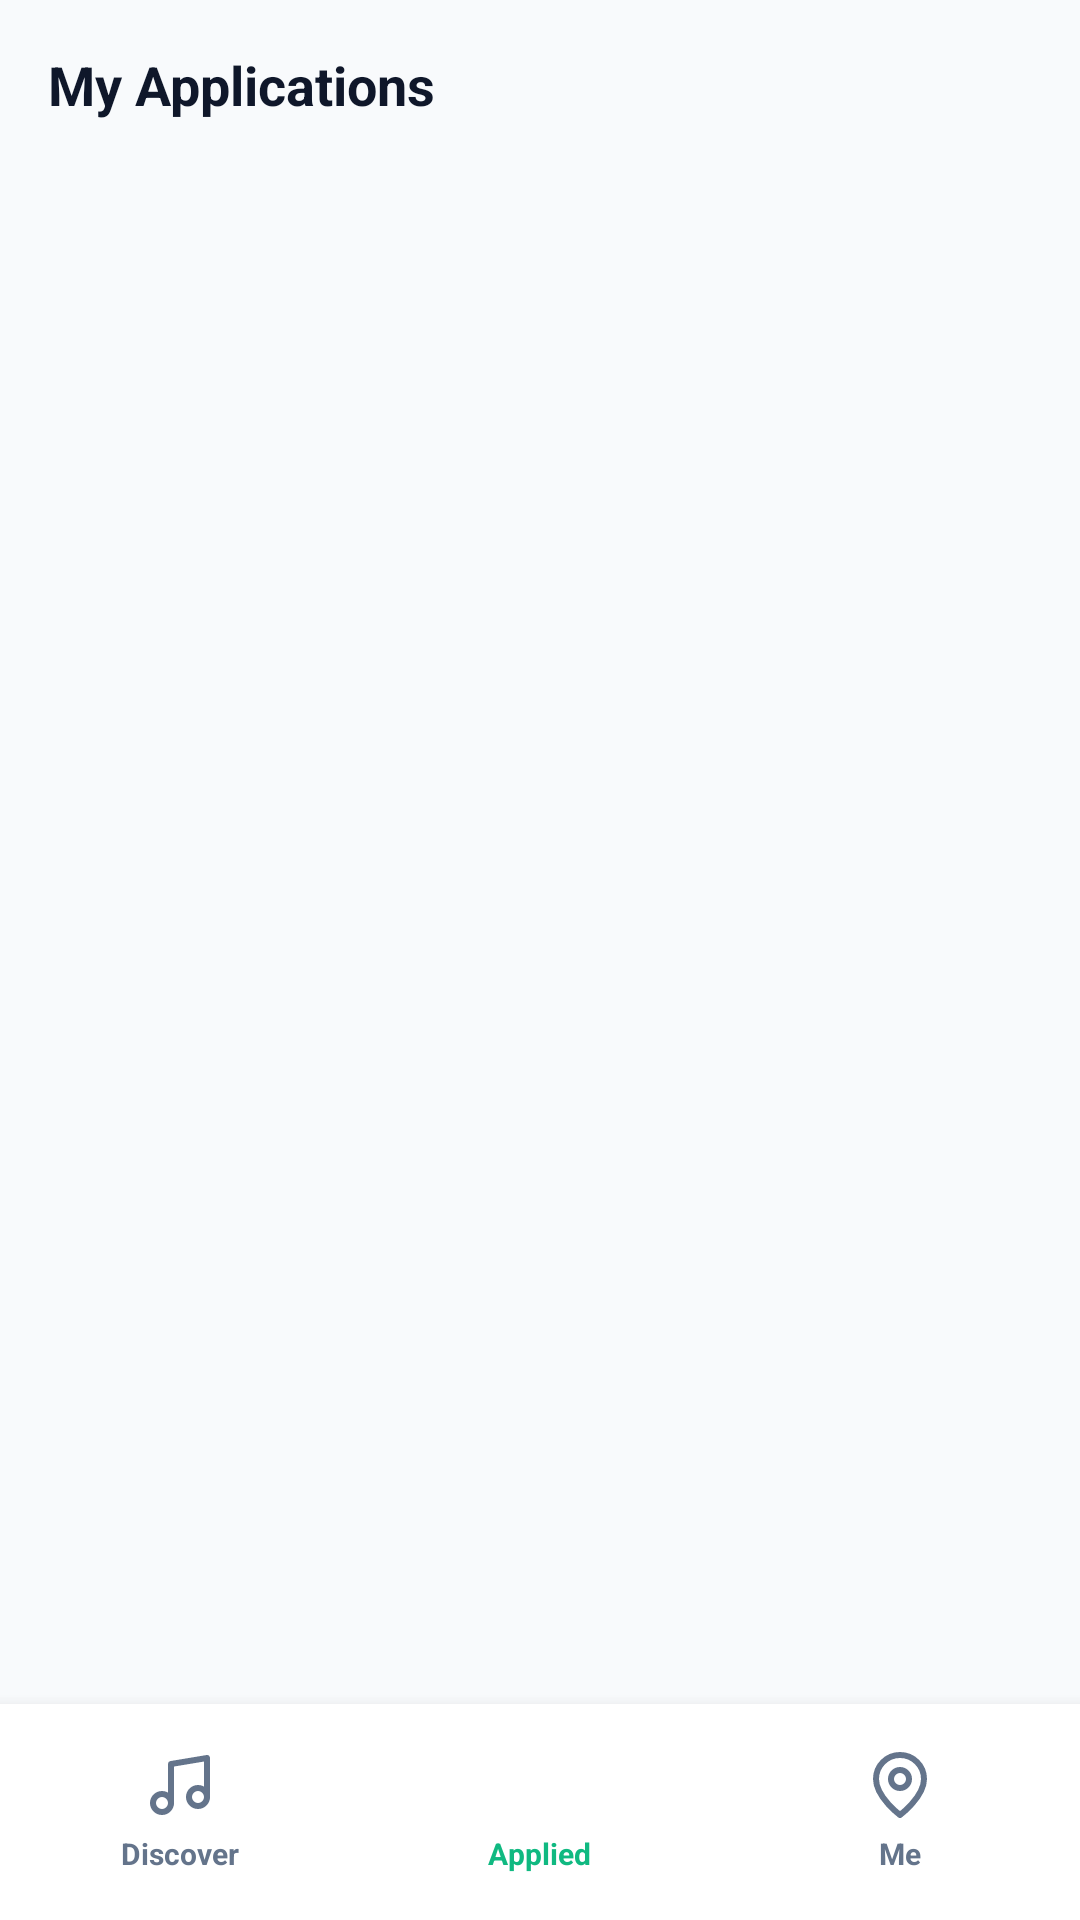

Screen size 1080×1920. Icon name, then its box in pixels as (x1, y1, x2, y2):
map pin: (873, 1752, 927, 1818)
music: (150, 1755, 210, 1815)
